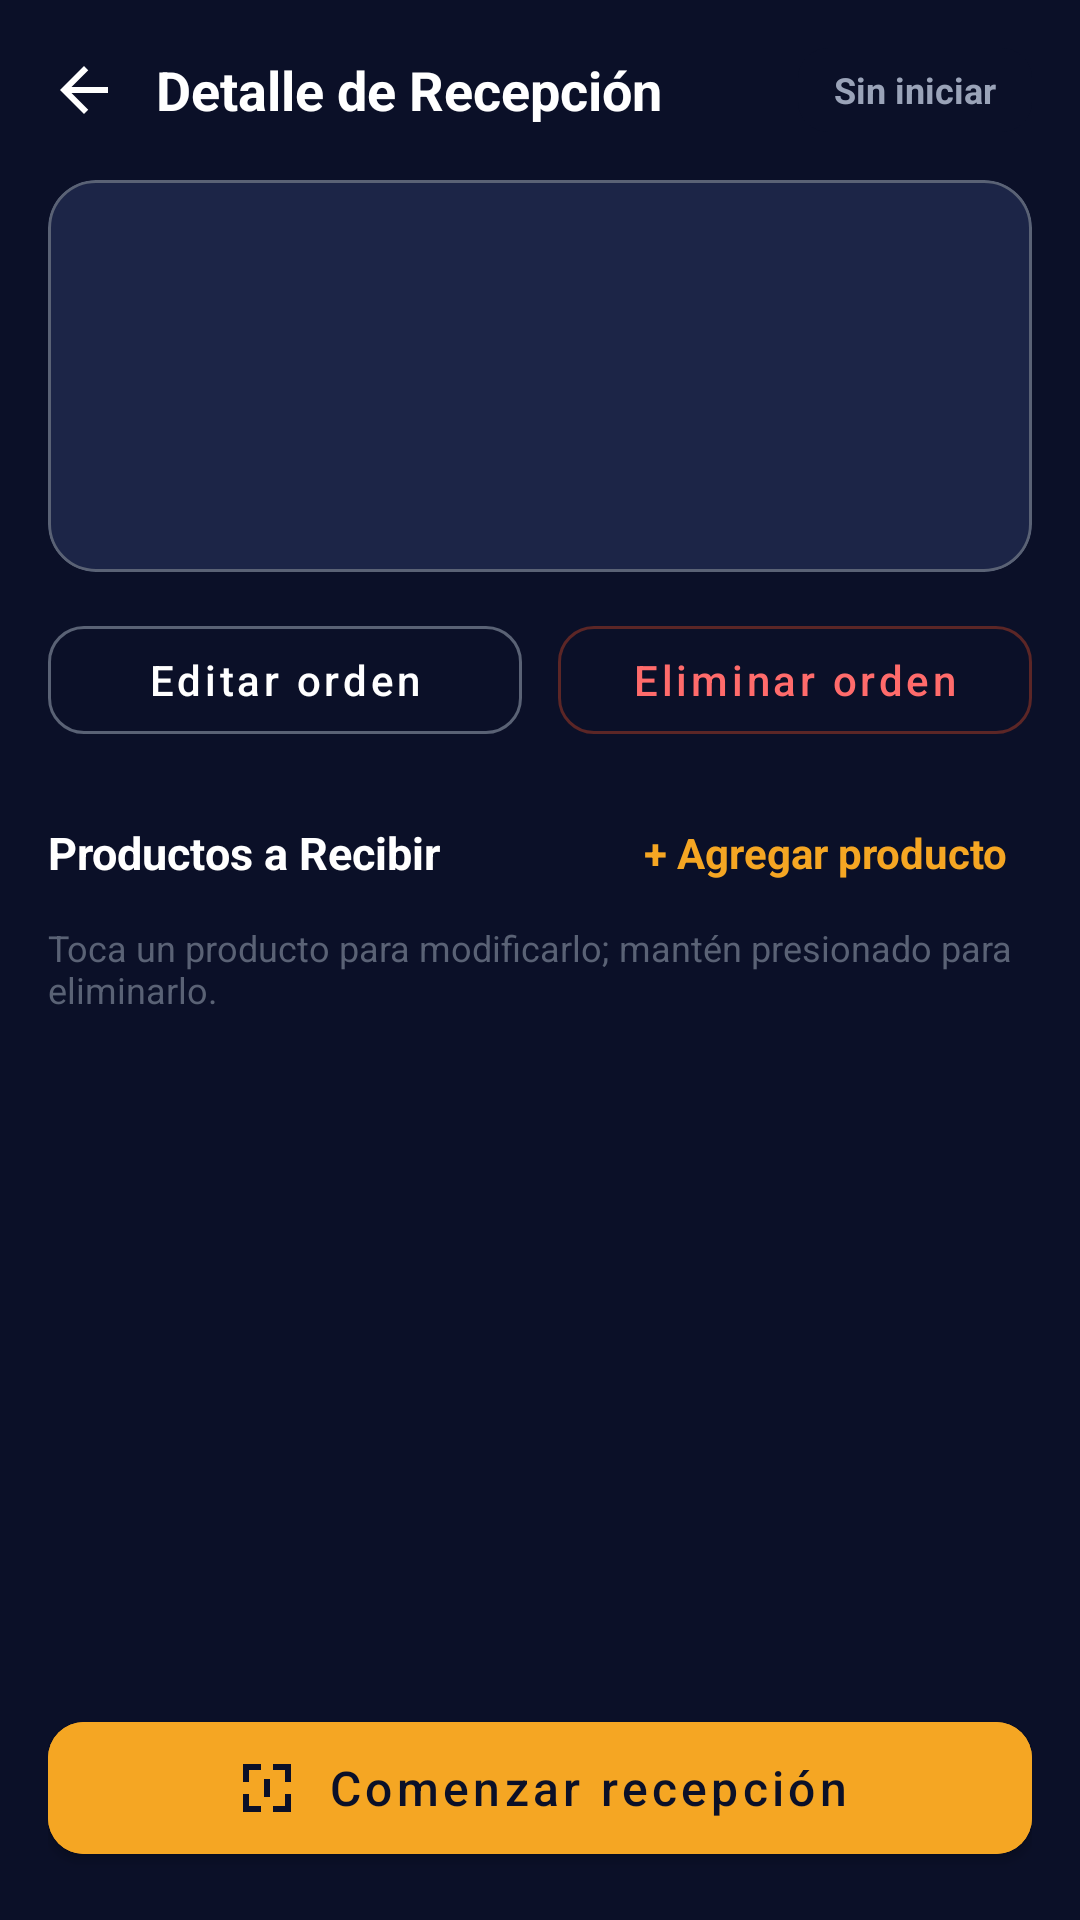

Point at icon controls on the screen. Image size 1080x1920, points as [x,y].
Volver: [84,90]
